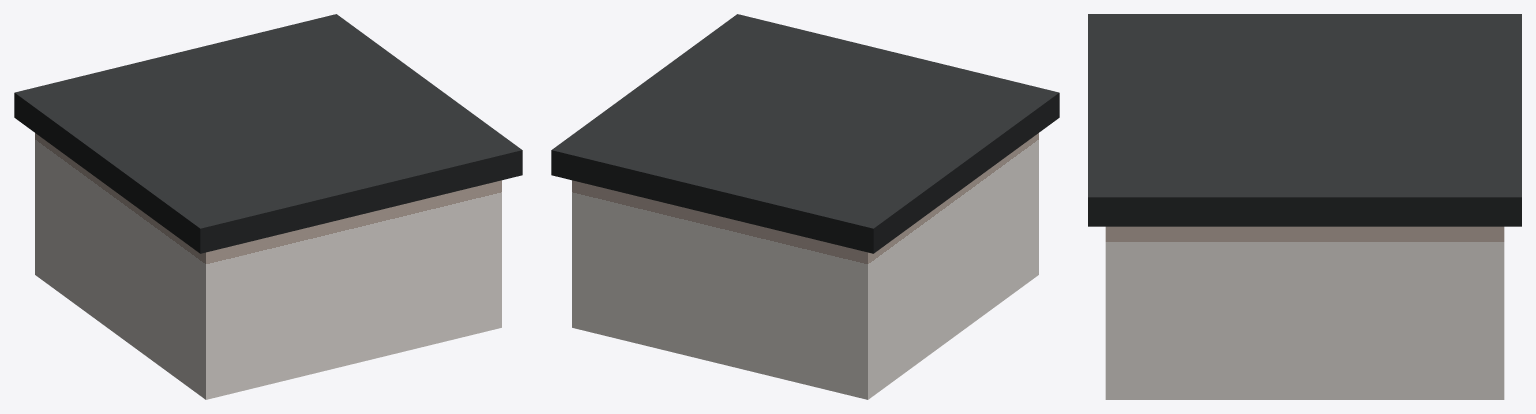
The model's file is balcon.gltf.
3 views of the same model, side by side, from view 1: azimuth 30°, elevation 25°; view 2: azimuth 150°, elevation 25°; view 3: azimuth 270°, elevation 25° (orthographic). The views are drawn at different scales.
Visible parts, largest first — view 1: cuboid; view 2: cuboid; view 3: cuboid.
Boxes of the visible parts, x1=… form: cuboid: x1=14, y1=14, x2=522, y2=399; cuboid: x1=551, y1=14, x2=1059, y2=399; cuboid: x1=1088, y1=14, x2=1521, y2=399.
Bounding box in the file's own units: 1.09 × 0.5813 × 1.09.
1 material, 1 textured.
